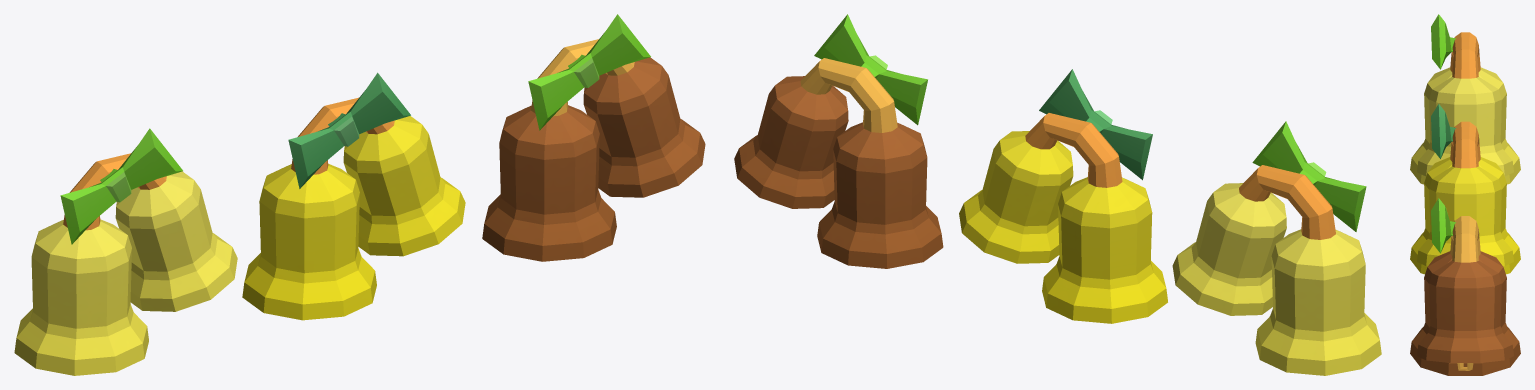
The model's file is Bells.glb.
3 renders of one model, left to right at view 1: azimuth 30°, elevation 25°; view 2: azimuth 150°, elevation 25°; view 3: azimuth 270°, elevation 25°, orthographic. The views are drawn at different scales.
Visible parts, largest first — view 1: Bells.002, Bells.001, Bells; view 2: Bells.001, Bells.002, Bells; view 3: Bells.001, Bells, Bells.002.
Part boxes in pixels (bbox=[...]): Bells.002: bbox=[14, 128, 237, 375]; Bells.001: bbox=[482, 14, 705, 261]; Bells: bbox=[242, 72, 465, 320]; Bells.001: bbox=[734, 14, 943, 268]; Bells.002: bbox=[1172, 121, 1381, 375]; Bells: bbox=[959, 69, 1167, 323]; Bells.001: bbox=[1410, 198, 1520, 375]; Bells: bbox=[1410, 104, 1520, 274]; Bells.002: bbox=[1410, 14, 1520, 184].
Size of the model in its own units: 1.87 by 0.6278 by 0.3315.
Materials: 1 (1 with a texture image).
